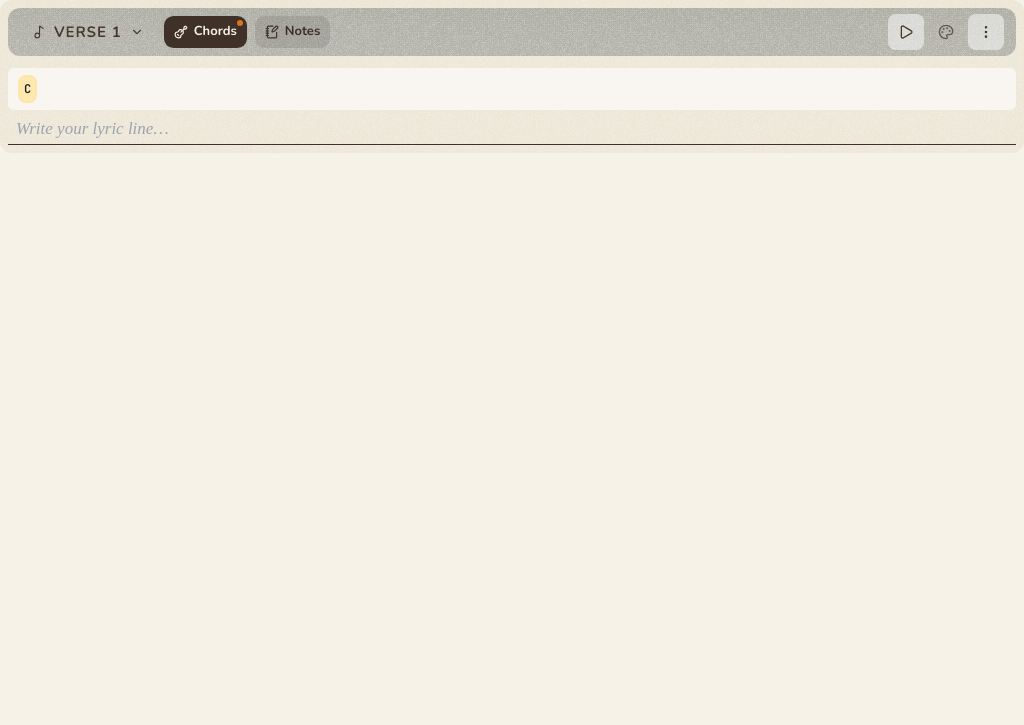
Add Chords input mode › editing an existing chord ignores Jam and shows no tabs
This screenshot has width=1024, height=725.
Right-click the element showing "C".
right_click(28, 89)  # box [18,72,37,106]
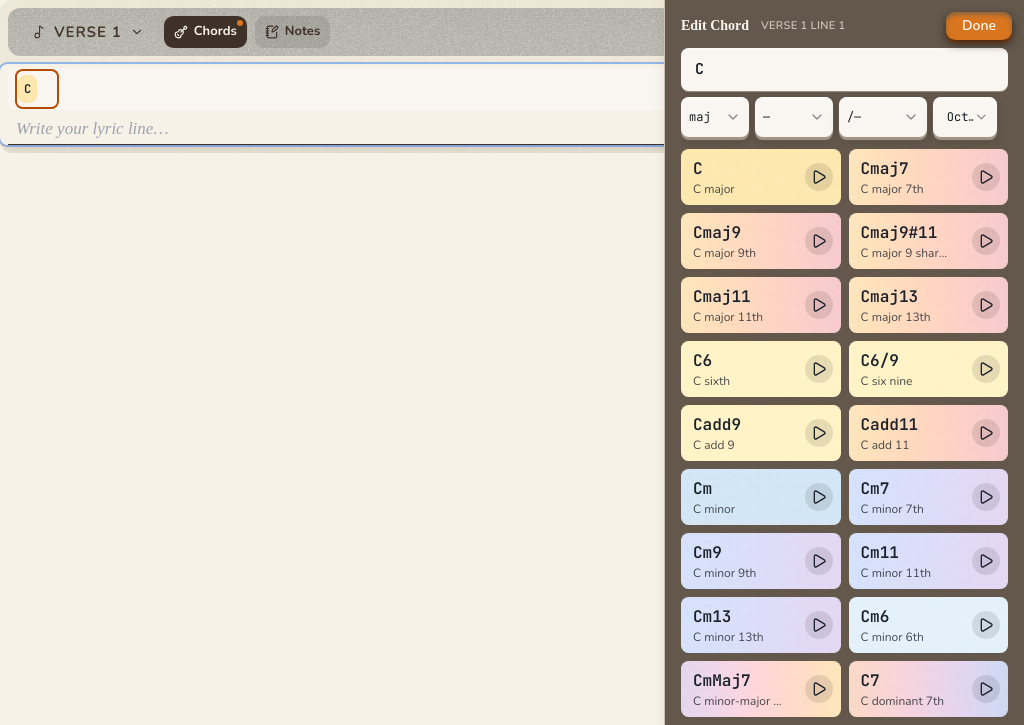
expect the text "Edit Chord" is shown: met, box [681,16,749,36]
